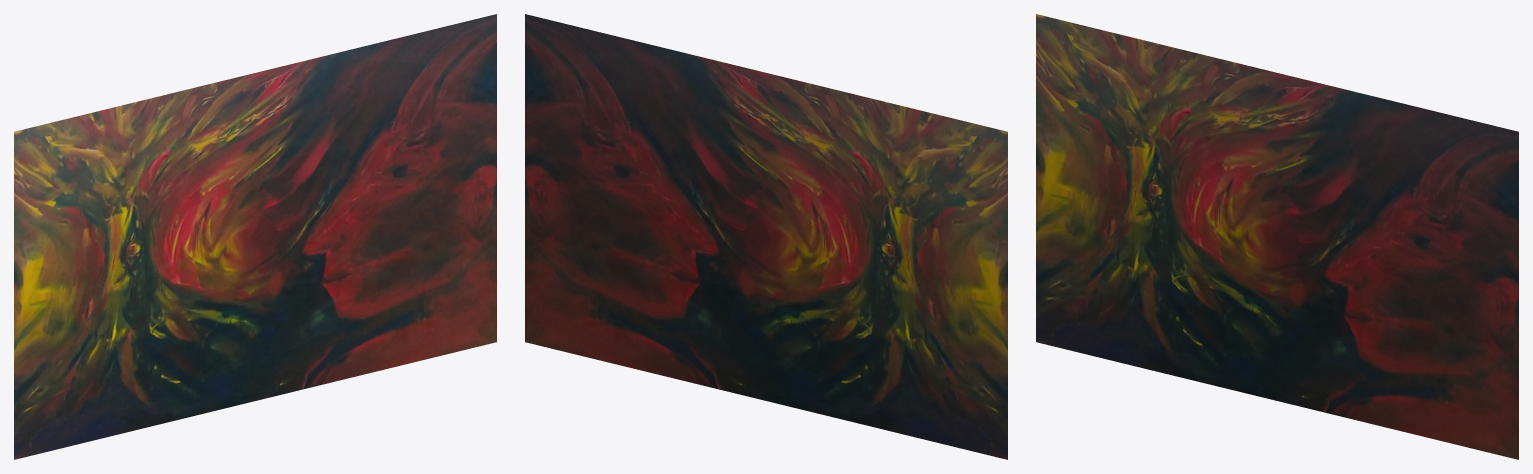
File: Charlesart3.fbx
The picture shows the model from 3 angles, left to right: view 1: azimuth 30°, elevation 25°; view 2: azimuth 150°, elevation 25°; view 3: azimuth 330°, elevation 25°; orthographic projection.
Parts seen in each view (by area): view 1: Letters; view 2: Letters; view 3: Letters.
Boxes of the visible parts, x1=… form: Letters: x1=14, y1=14, x2=496, y2=459; Letters: x1=525, y1=14, x2=1007, y2=459; Letters: x1=1036, y1=14, x2=1518, y2=459.
Size of the model in its own units: 1.06 by 0.6911 by 9.81e-09.
